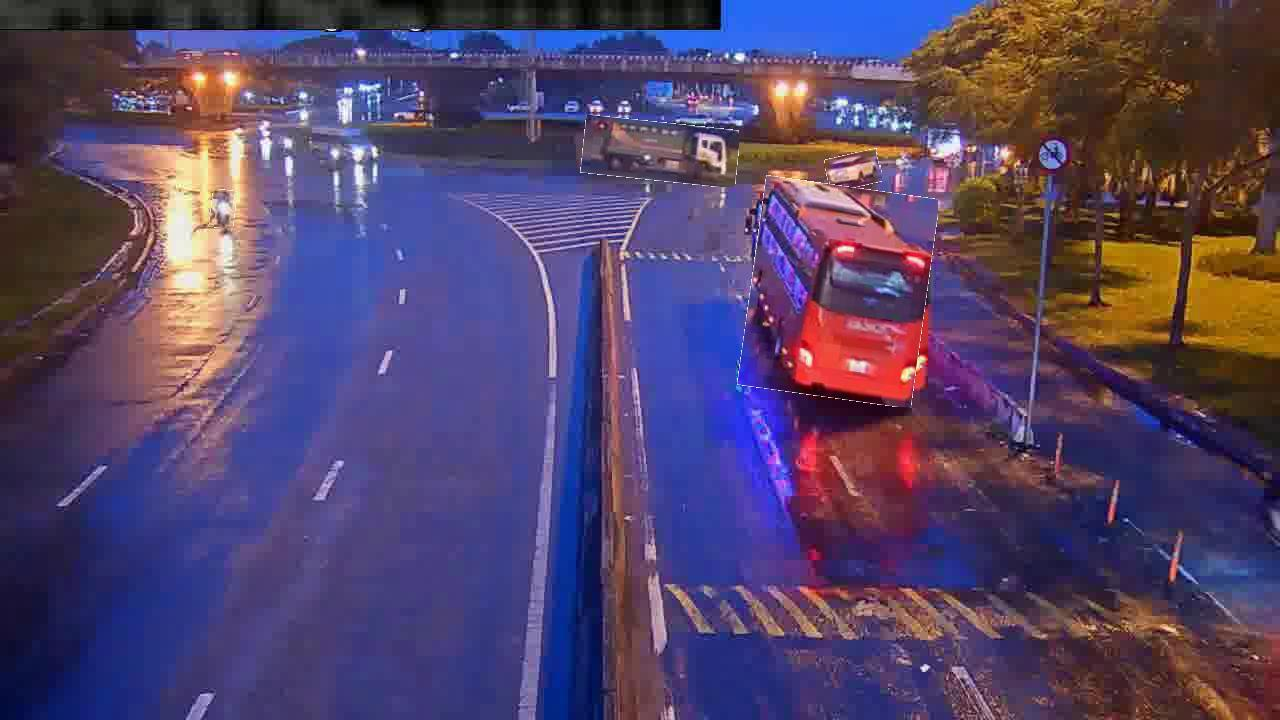14: (744, 181, 933, 403)
8: (582, 119, 739, 185)
container: (826, 151, 882, 190)
motorbike: (210, 190, 236, 229)
